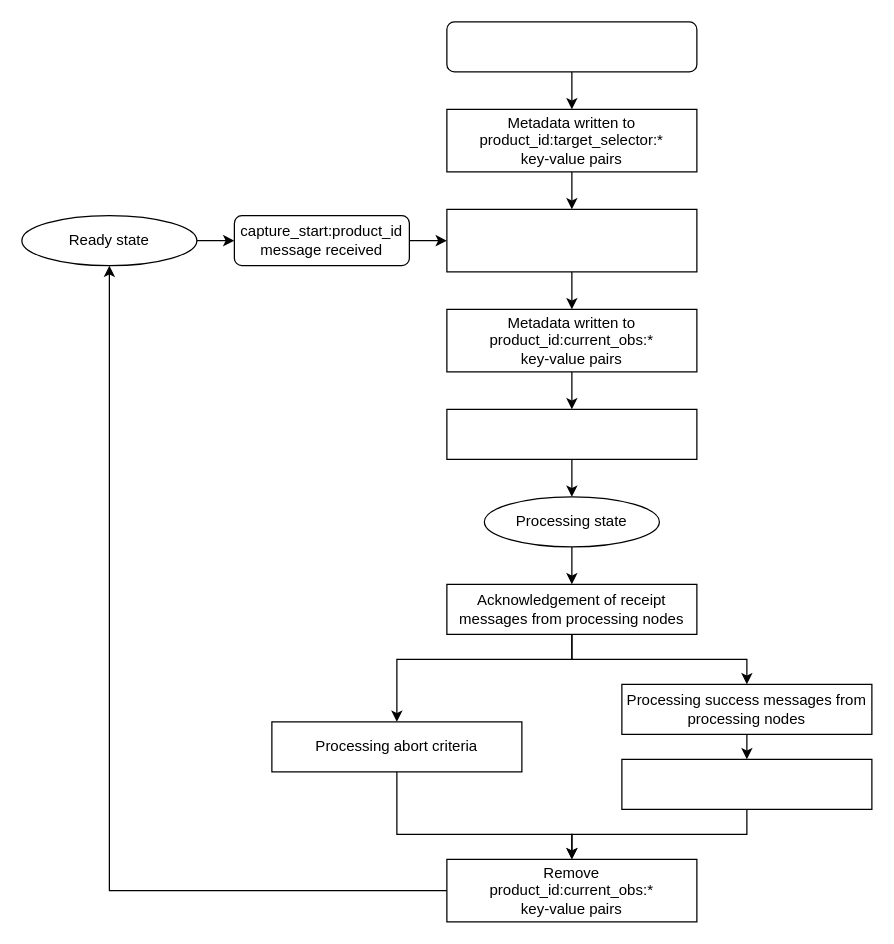
The diagram is 894 pixels wide and 944 high, and some of its shapes have lost their labels. The shapes that lost their labels are listed below. From the top down, each one's centre as x and y in pixels, then its label:
the point at 571,46: Messages received over "alerts" and "sensor_alerts" channels
the point at 571,240: Metadata fetched from product_id:target_selector:* key-value pairs
the point at 571,433: Target list generated, triaged and published to bluse:///set
the point at 746,783: Update previous observation table
